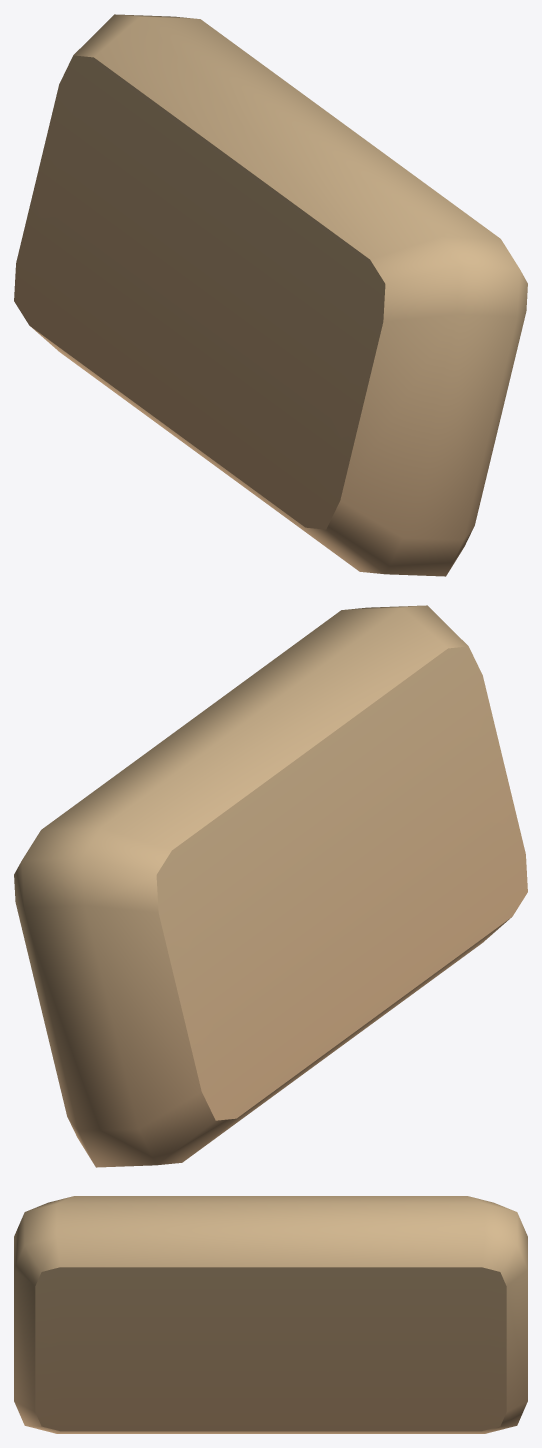
Rendered from pillow-wide-square-reclining.glb.
3 renders of one model, top to bottom at view 1: azimuth 30°, elevation 25°; view 2: azimuth 150°, elevation 25°; view 3: azimuth 270°, elevation 25°, orthographic. The views are drawn at different scales.
Visible parts, largest first — view 1: pillow-wide-square-reclining; view 2: pillow-wide-square-reclining; view 3: pillow-wide-square-reclining.
Boxes of the visible parts, x1=… form: pillow-wide-square-reclining: x1=14, y1=14, x2=527, y2=576; pillow-wide-square-reclining: x1=14, y1=605, x2=527, y2=1167; pillow-wide-square-reclining: x1=14, y1=1196, x2=527, y2=1433.
Bounding box in the file's own units: 0.194 × 0.3054 × 0.6.
